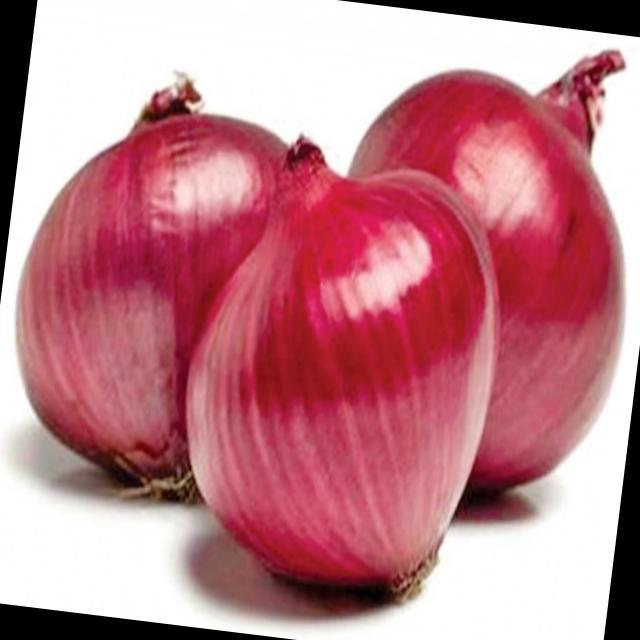ONIONS: (162, 149, 520, 609), (310, 51, 640, 503), (0, 72, 260, 460)
